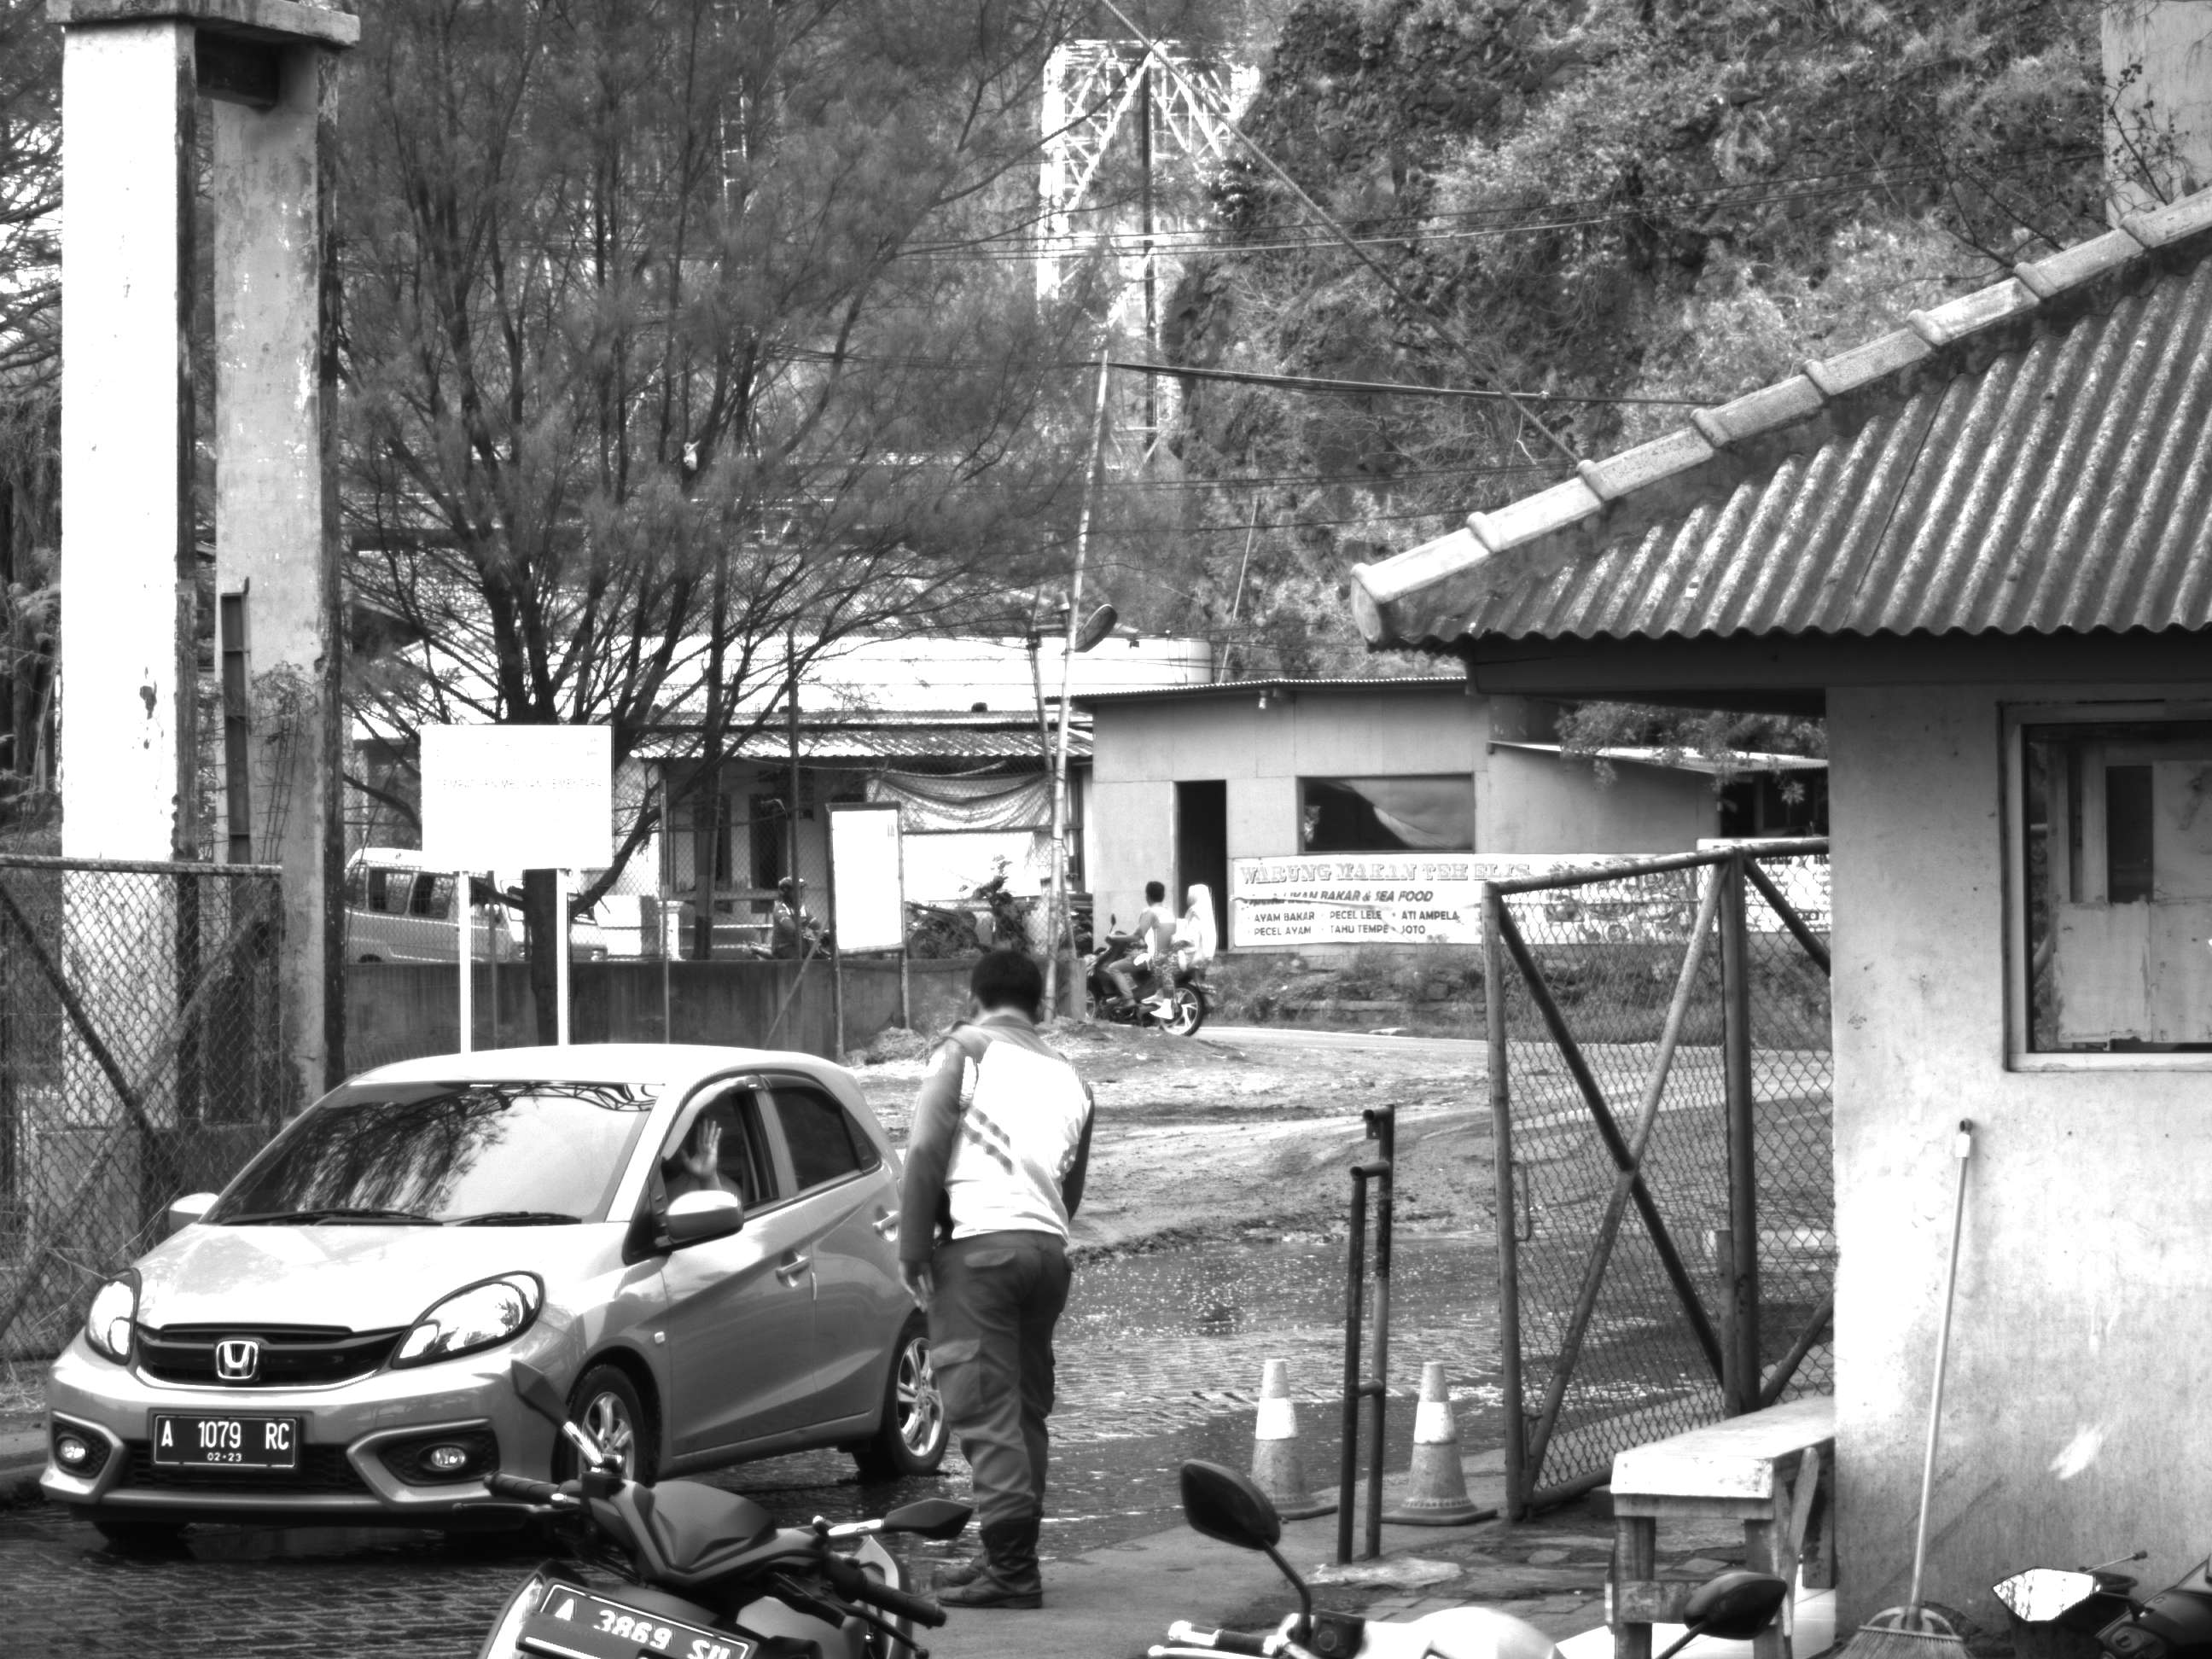day_small_front: (38, 1033, 676, 1541)
plate: (532, 1570, 757, 1659), (152, 1412, 301, 1470)
